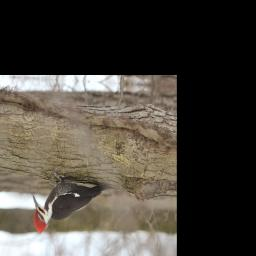Woodpecker: (31, 166, 121, 240)
